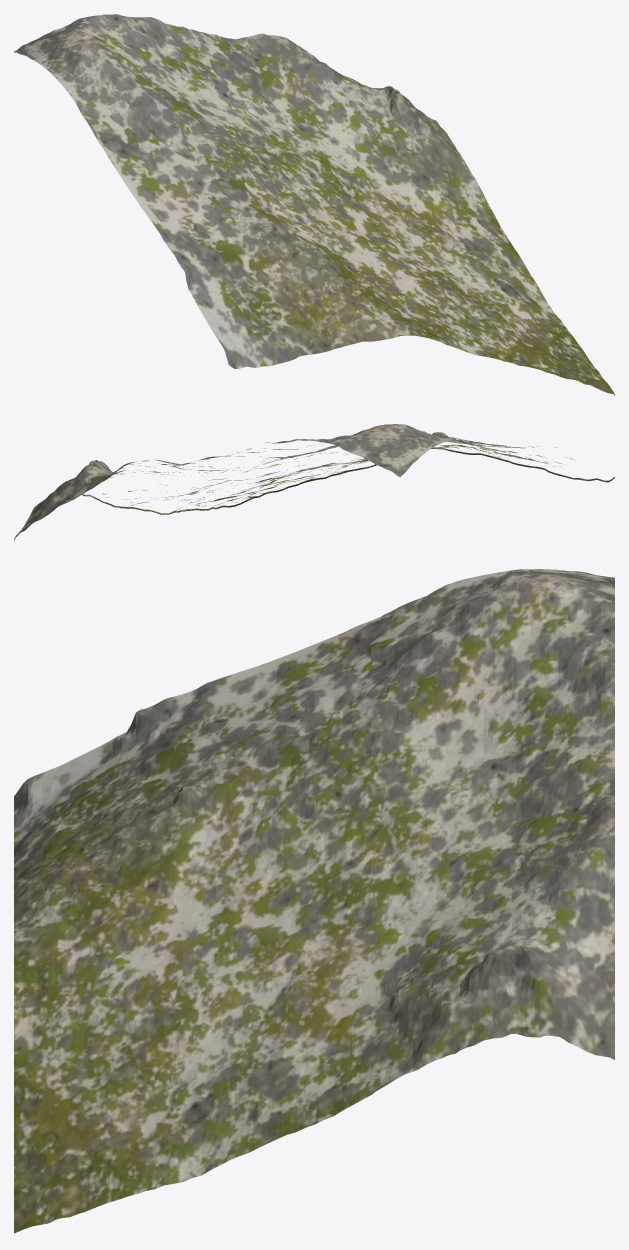
The picture shows the model from 3 angles, top to bottom: view 1: azimuth 30°, elevation 25°; view 2: azimuth 150°, elevation 25°; view 3: azimuth 270°, elevation 25°; orthographic projection. The views are drawn at different scales.
Bounding box in the file's own units: 250 × 186 × 241.
1 material, 1 textured.
